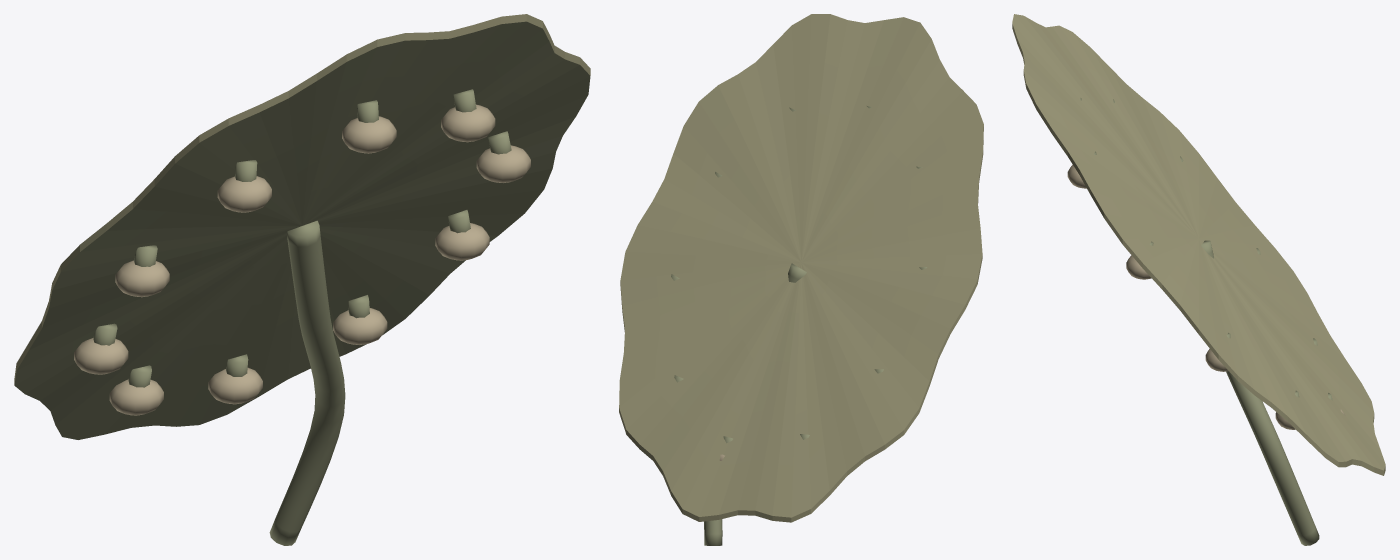
The model's file is peltaspermum.glb.
3 views of the same model, side by side, from view 1: azimuth 30°, elevation 25°; view 2: azimuth 150°, elevation 25°; view 3: azimuth 270°, elevation 25° (orthographic). The views are drawn at different scales.
Parts seen in each view (by area): view 1: preserved-thin-wavy-peltate-reproductive-disc-only, attached-lower-surface-ring-of-simplified-ovulate-bases, cut-petiole-connected-to-disc-underside; view 2: preserved-thin-wavy-peltate-reproductive-disc-only, cut-petiole-connected-to-disc-underside; view 3: preserved-thin-wavy-peltate-reproductive-disc-only, cut-petiole-connected-to-disc-underside, attached-lower-surface-ring-of-simplified-ovulate-bases.
Boxes of the visible parts, box(x1,y1,x2,y2) form: preserved-thin-wavy-peltate-reproductive-disc-only: box(14, 14, 590, 439); attached-lower-surface-ring-of-simplified-ovulate-bases: box(74, 89, 530, 415); cut-petiole-connected-to-disc-underside: box(269, 220, 345, 545); preserved-thin-wavy-peltate-reproductive-disc-only: box(619, 14, 983, 522); cut-petiole-connected-to-disc-underside: box(704, 263, 806, 545); preserved-thin-wavy-peltate-reproductive-disc-only: box(1012, 14, 1385, 475); cut-petiole-connected-to-disc-underside: box(1201, 240, 1319, 545); attached-lower-surface-ring-of-simplified-ovulate-bases: box(1067, 98, 1345, 429).
Size of the model in its own units: 0.0628 by 0.08 by 0.0552.
